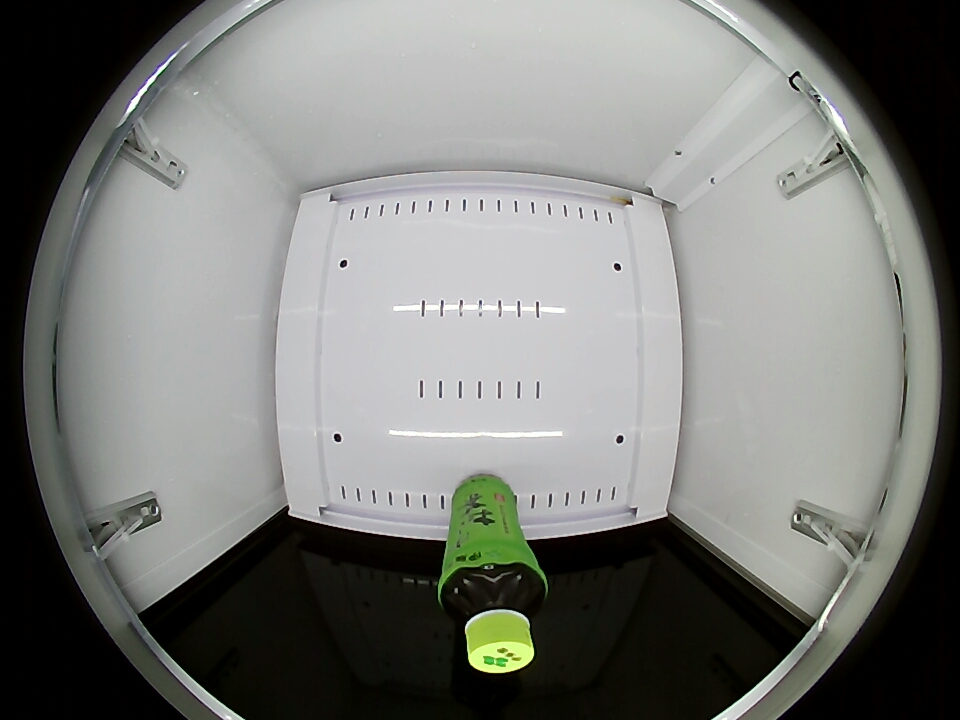yitengyuan: (438, 554, 547, 674)
